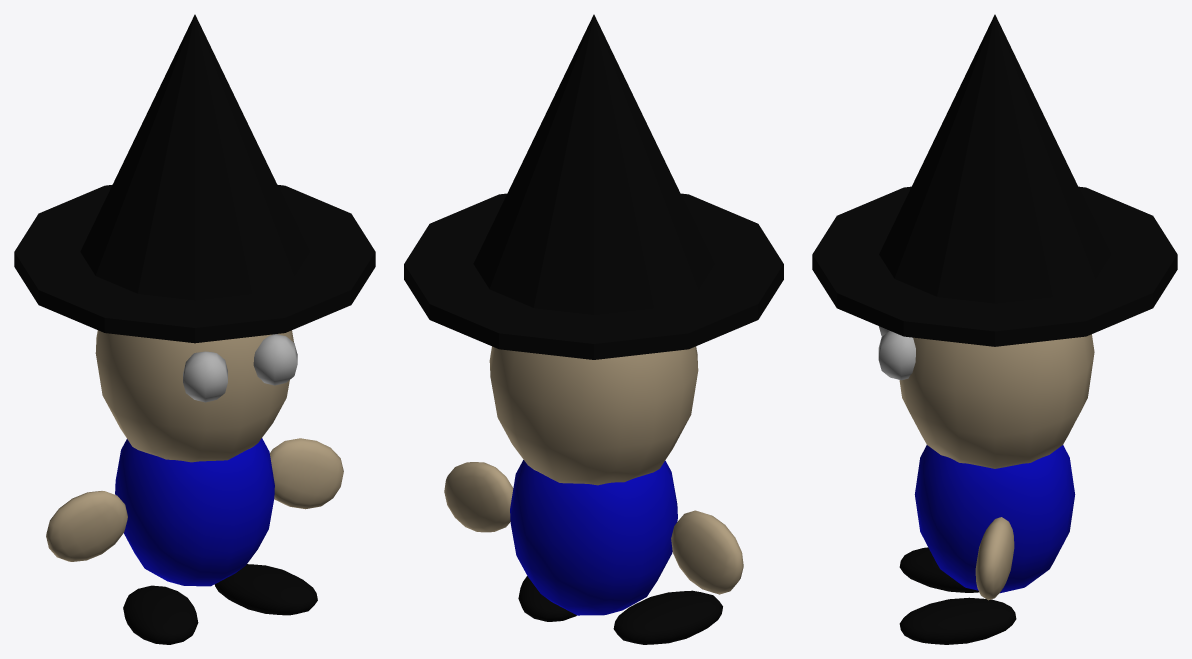
File: witchA.fbx
3 views of the same model, side by side, from view 1: azimuth 30°, elevation 25°; view 2: azimuth 150°, elevation 25°; view 3: azimuth 270°, elevation 25° (orthographic). The views are drawn at different scales.
Parts seen in each view (by area): view 1: pCone2, pCube1, pCube2, pCube4, pCube3, pCube6, pCube5, pSphere1, pSphere2; view 2: pCone2, pCube2, pCube1, pCube4, pCube5, pCube3, pCube6; view 3: pCone2, pCube2, pCube1, pCube6, pCube3, pCube5, pSphere2.
Part boxes in pixels (x1,y1,x2,y2): pCone2: [14, 14, 375, 343]; pCube1: [115, 438, 274, 586]; pCube2: [95, 330, 293, 462]; pCube4: [46, 491, 127, 561]; pCube3: [270, 438, 343, 509]; pCube6: [214, 564, 317, 615]; pCube5: [123, 585, 198, 644]; pSphere1: [183, 351, 227, 402]; pSphere2: [253, 334, 297, 385]; pCone2: [404, 14, 783, 359]; pCube2: [489, 346, 698, 485]; pCube1: [510, 460, 677, 615]; pCube4: [671, 510, 743, 594]; pCube5: [613, 590, 722, 644]; pCube3: [444, 462, 513, 532]; pCube6: [518, 576, 576, 621]; pCone2: [812, 14, 1177, 346]; pCube2: [899, 334, 1094, 468]; pCube1: [914, 445, 1075, 593]; pCube6: [899, 597, 1016, 644]; pCube3: [975, 517, 1014, 600]; pCube5: [899, 547, 978, 592]; pSphere2: [878, 331, 915, 380].
Bounding box in the file's own units: 2 × 3.61 × 2.
